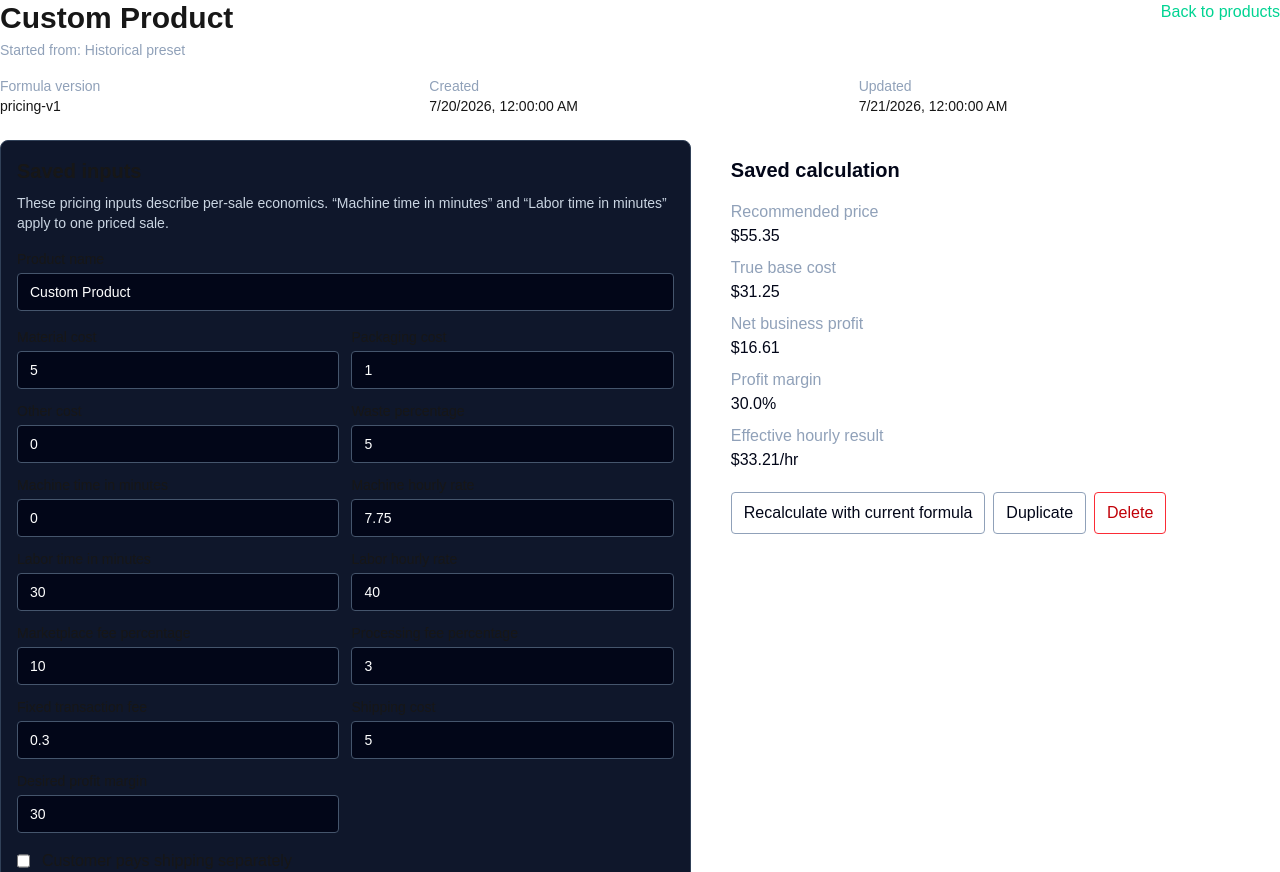
Scenario: saved product editor › shows Modified, validates edits, and suppresses saving invalid results
Replace the text in the number field labelled "Desired profit margin" with "100" at [178, 814], box [17,795,339,833]
(page scrolled)
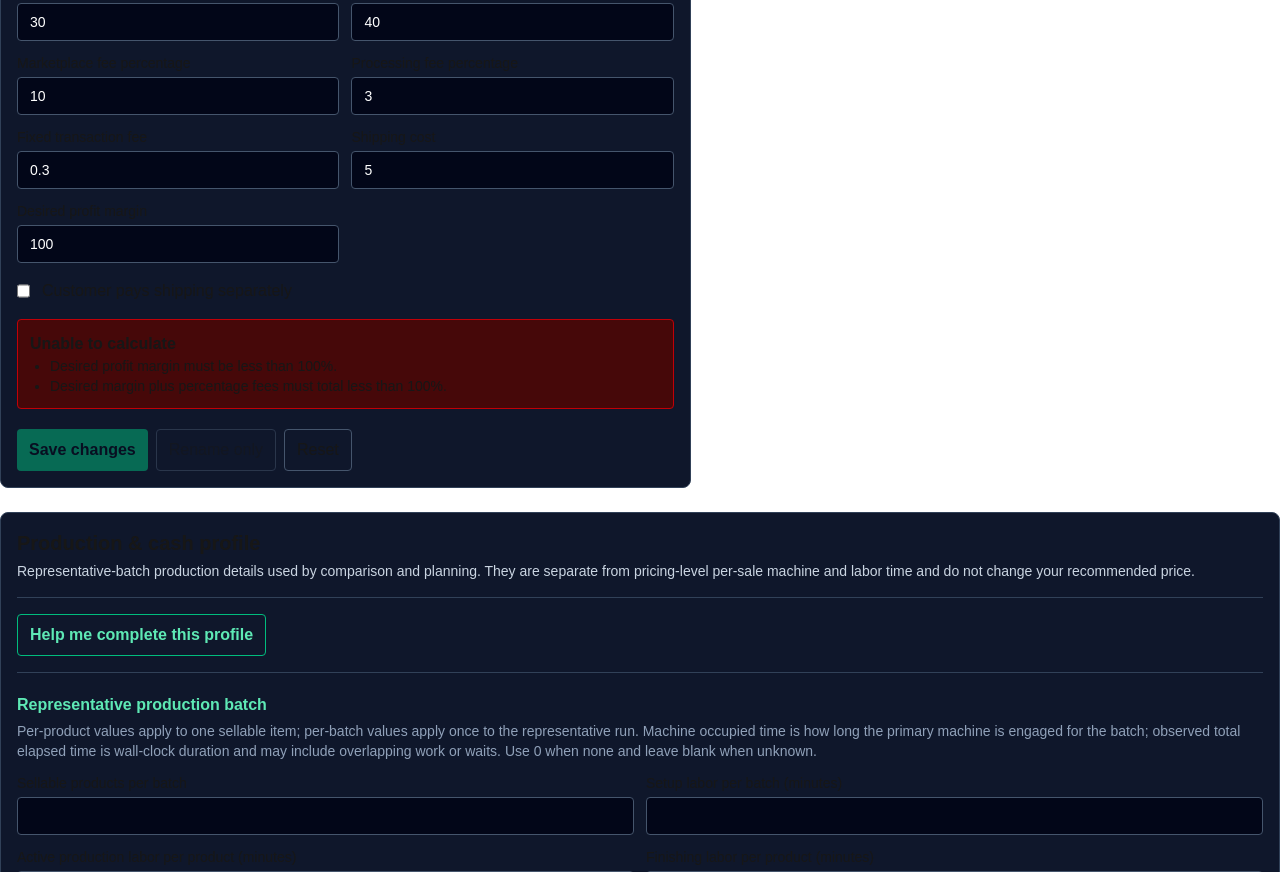
Expected: the button "Save changes" is disabled, [17,429,148,471]
Result: the message shows "Unable to calculate" at [30,335,176,352]
